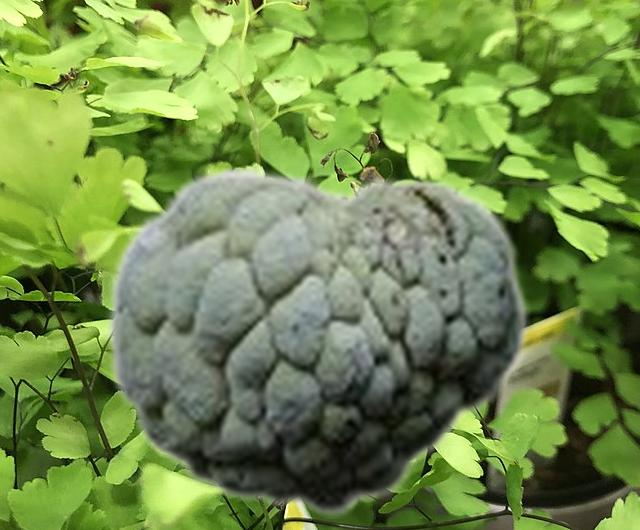atis: (105, 164, 529, 517)
